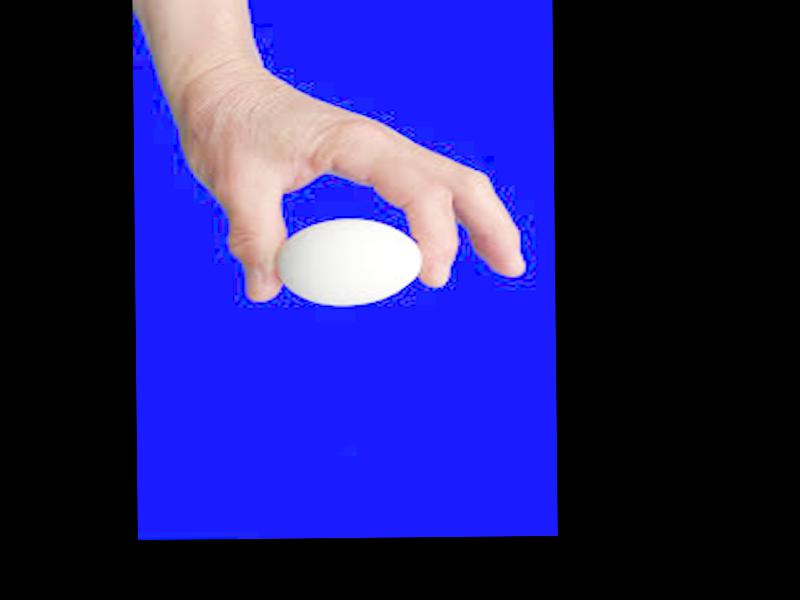Eggs: (276, 218, 425, 305)
